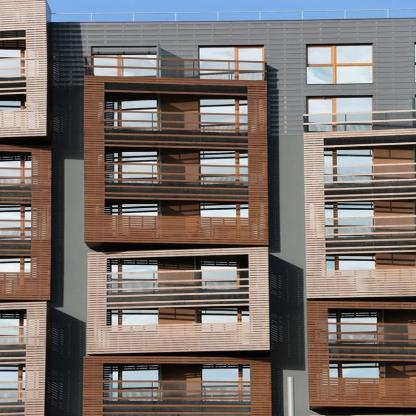Balcony: (51, 8, 416, 21)
Building Outline: (0, 0, 416, 416)
Facade: (0, 21, 416, 416)
Floor: (0, 354, 416, 407), (0, 144, 416, 192), (0, 197, 416, 245), (0, 250, 416, 297), (0, 302, 416, 349), (0, 93, 416, 139), (0, 411, 416, 416)
Floor Slab: (0, 87, 416, 93), (0, 407, 416, 412), (0, 349, 416, 354), (0, 297, 416, 302), (0, 245, 416, 250), (0, 192, 416, 197), (0, 139, 416, 144)
Top Floor: (0, 21, 416, 93)
Window: (306, 43, 373, 85), (313, 358, 379, 398), (91, 46, 158, 85), (199, 45, 264, 85), (312, 253, 378, 292), (311, 199, 376, 238), (312, 306, 378, 344), (311, 148, 375, 187), (306, 95, 373, 132), (94, 364, 160, 401), (196, 307, 260, 342), (196, 258, 260, 293), (201, 364, 260, 401), (98, 307, 159, 342), (98, 258, 159, 293), (103, 98, 161, 133), (198, 98, 256, 133), (103, 150, 161, 185), (198, 150, 256, 185), (103, 202, 161, 236), (198, 202, 256, 236), (0, 152, 35, 189), (0, 204, 35, 241), (0, 308, 34, 346), (0, 364, 34, 402), (0, 258, 35, 293), (0, 98, 34, 131), (0, 46, 35, 77)
